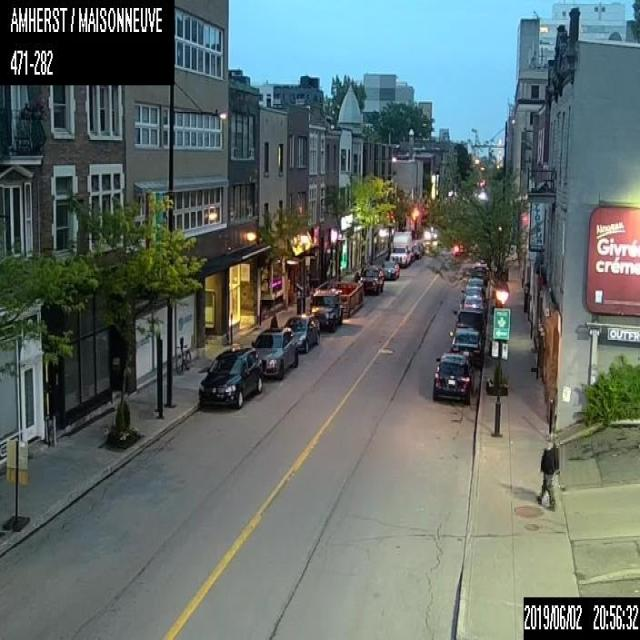pedestrian: (536, 437, 556, 508), (269, 314, 276, 326), (353, 270, 359, 282)
vehicle: (196, 348, 262, 408), (252, 326, 298, 379), (432, 352, 474, 404), (282, 314, 319, 352), (448, 326, 484, 364), (309, 292, 342, 332), (389, 230, 415, 265), (451, 306, 485, 329), (360, 265, 384, 293), (460, 285, 485, 304), (465, 277, 486, 298), (463, 294, 485, 312), (381, 259, 399, 280), (472, 260, 488, 281), (412, 244, 421, 258)
